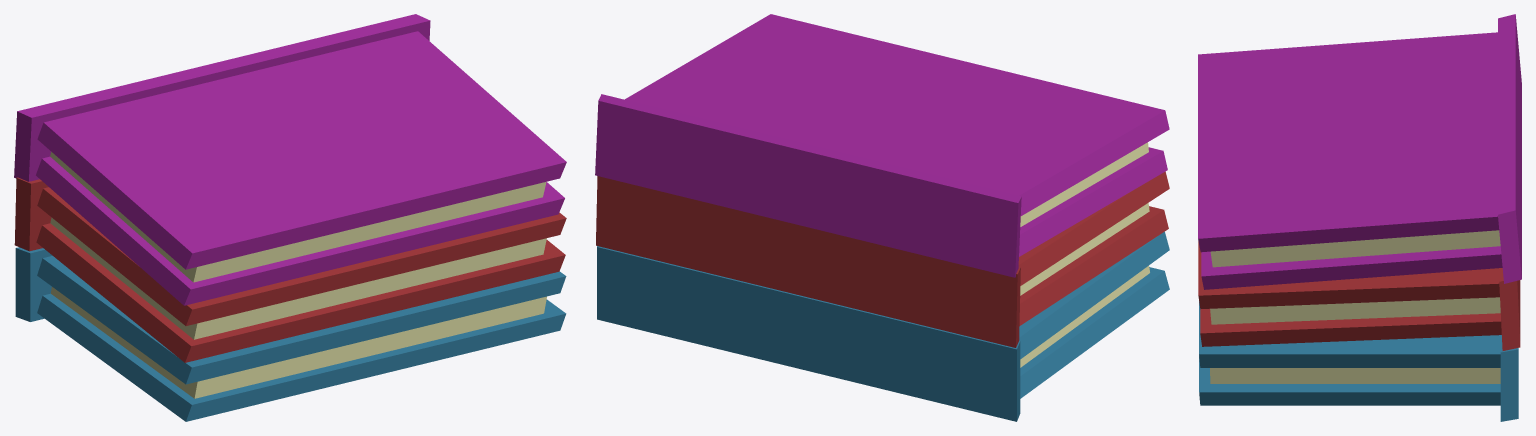
The model's file is ksiazki_2.fbx.
The picture shows the model from 3 angles, left to right: view 1: azimuth 30°, elevation 25°; view 2: azimuth 150°, elevation 25°; view 3: azimuth 270°, elevation 25°; orthographic projection. The views are drawn at different scales.
Visible parts, largest first — view 1: Plane.027; view 2: Plane.027; view 3: Plane.027.
Boxes of the visible parts, box(x1,y1,x2,y2) form: Plane.027: box(14, 14, 566, 421); Plane.027: box(595, 14, 1169, 421); Plane.027: box(1198, 14, 1521, 421).
Bounding box in the file's own units: 80.57 × 39.37 × 55.35.
